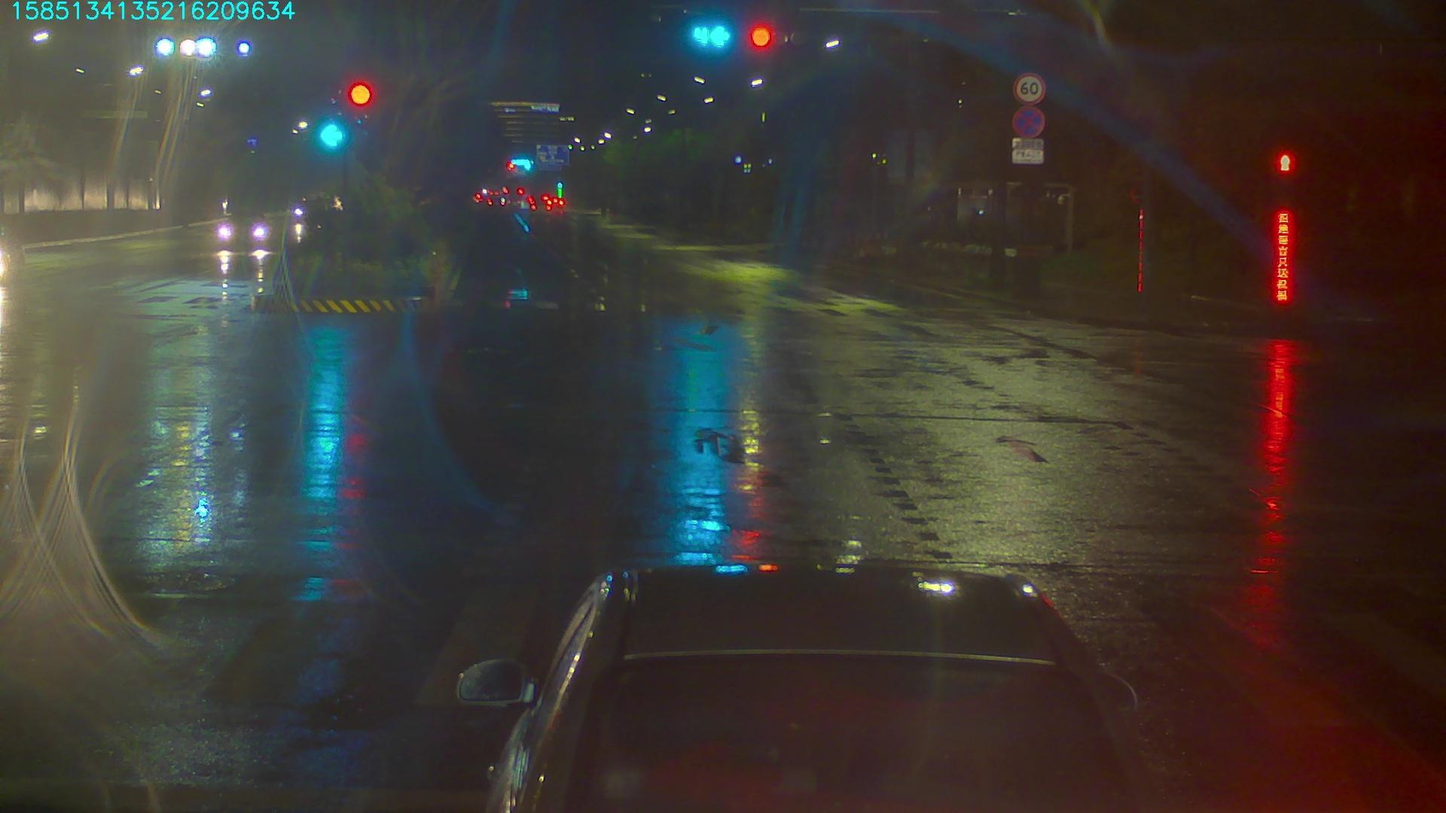green: (682, 27, 733, 53)
red: (751, 29, 770, 51)
